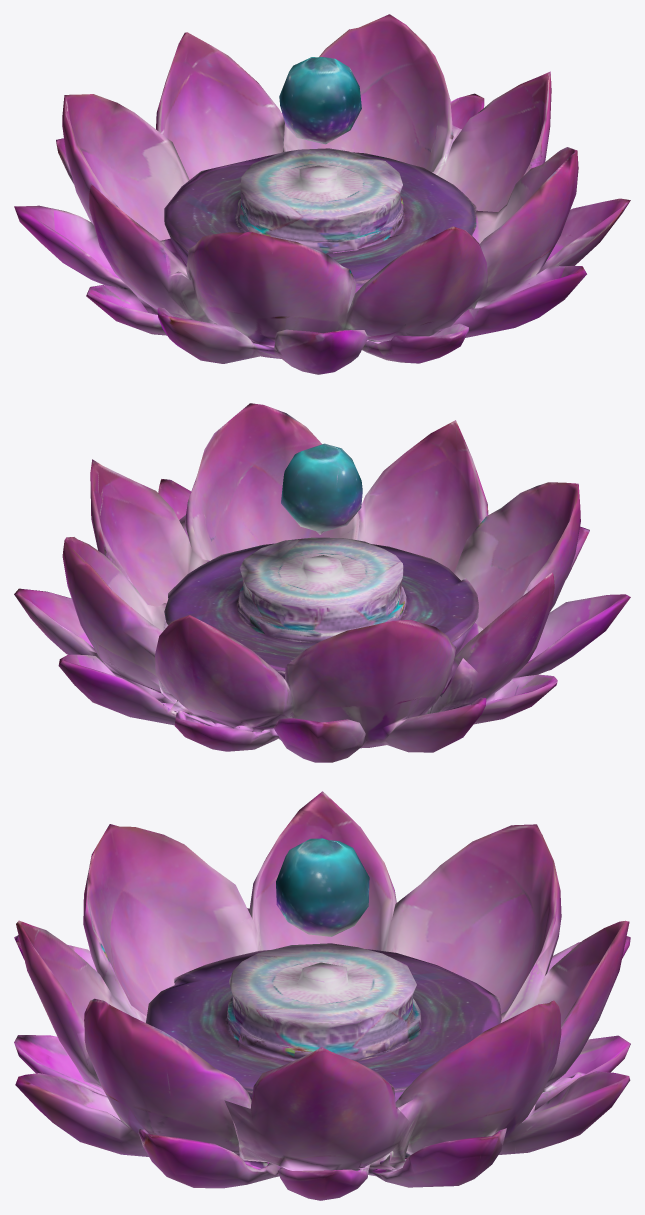
Rendered from Lotus.glb.
The picture shows the model from 3 angles, top to bottom: view 1: azimuth 30°, elevation 25°; view 2: azimuth 150°, elevation 25°; view 3: azimuth 270°, elevation 25°; orthographic projection. The views are drawn at different scales.
Bounding box in the file's own units: 2 × 1.05 × 1.99.
Materials: 1 (1 with a texture image).
